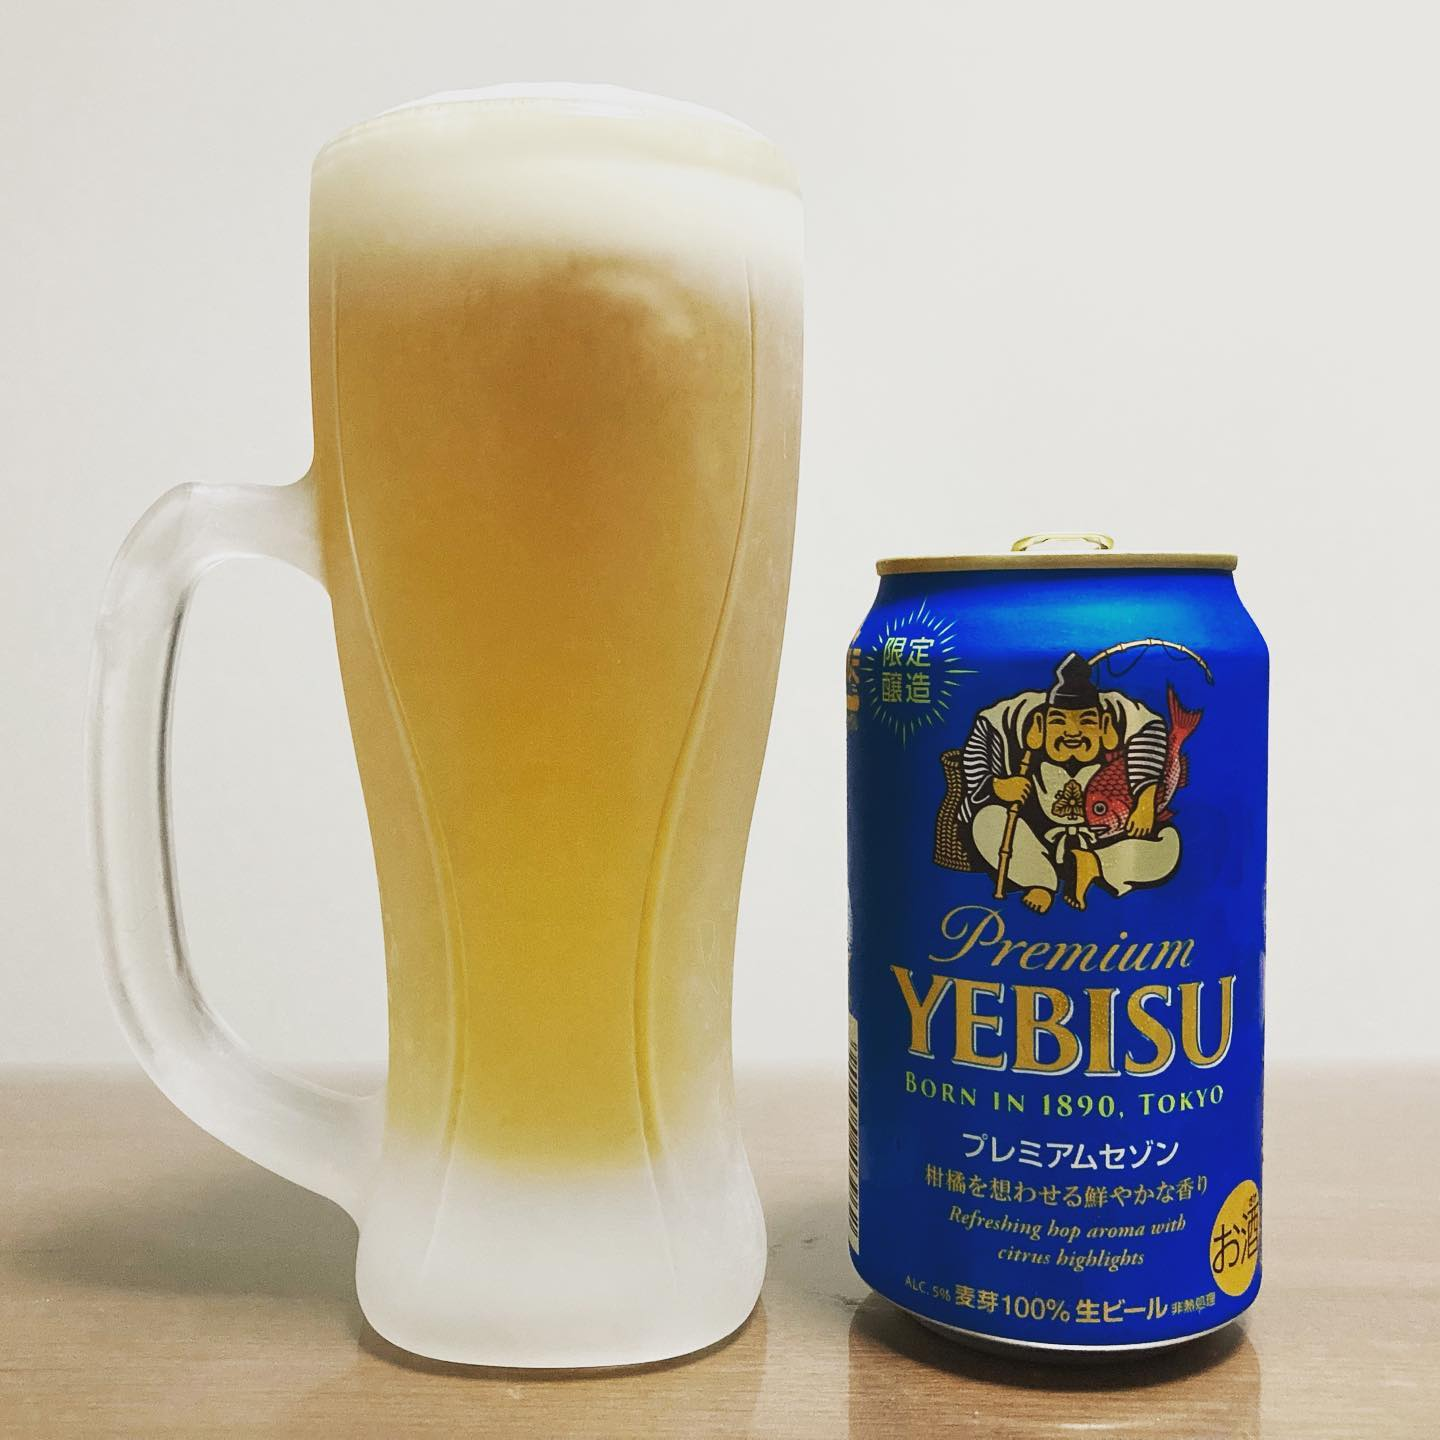alcohol: (298, 70, 814, 1387), (837, 524, 1278, 1379)
